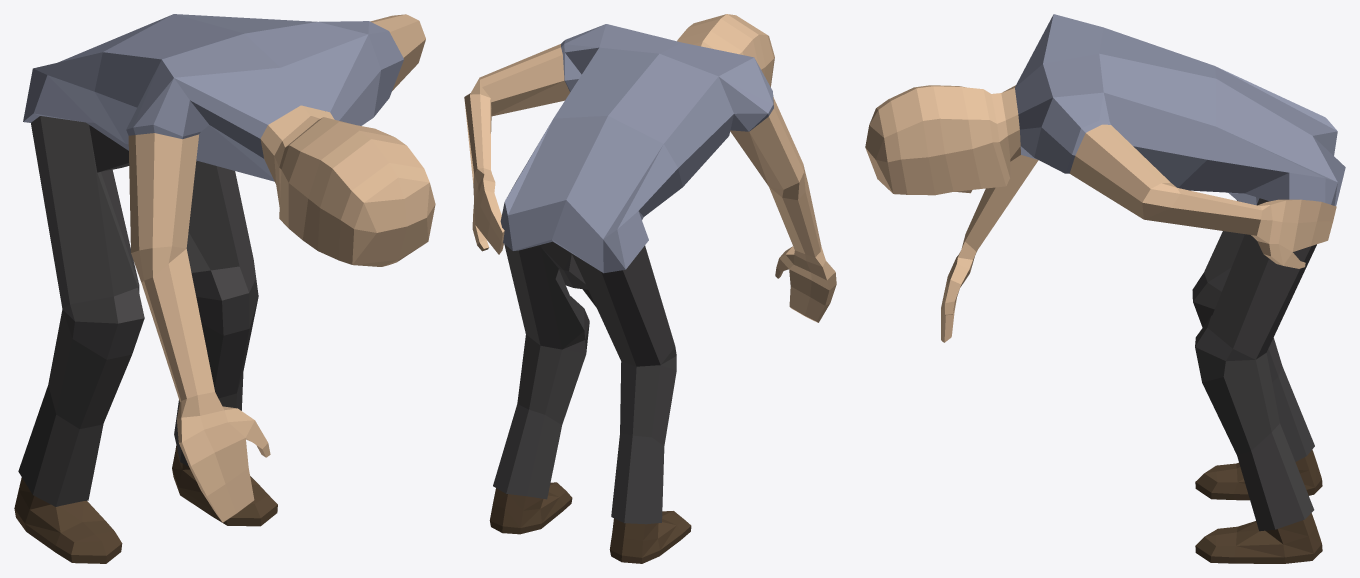
Rendered from Male_PickingUp.glb.
3 views of the same model, side by side, from view 1: azimuth 30°, elevation 25°; view 2: azimuth 150°, elevation 25°; view 3: azimuth 270°, elevation 25° (orthographic). The views are drawn at different scales.
Visible parts, largest first — view 1: Male_PickingUp; view 2: Male_PickingUp; view 3: Male_PickingUp.
Part boxes in pixels (left/top/right/bottom): Male_PickingUp: left=14, top=14, right=435, bottom=563; Male_PickingUp: left=464, top=14, right=836, bottom=563; Male_PickingUp: left=865, top=14, right=1345, bottom=563.
Bounding box in the file's own units: 1.59 × 2.33 × 2.16.
